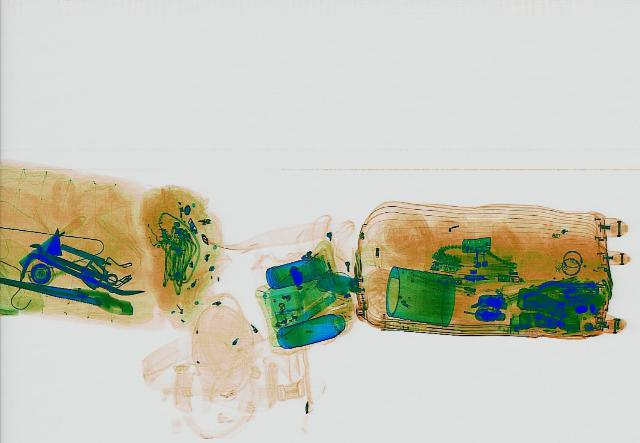Wrench: (20, 241, 121, 287)
